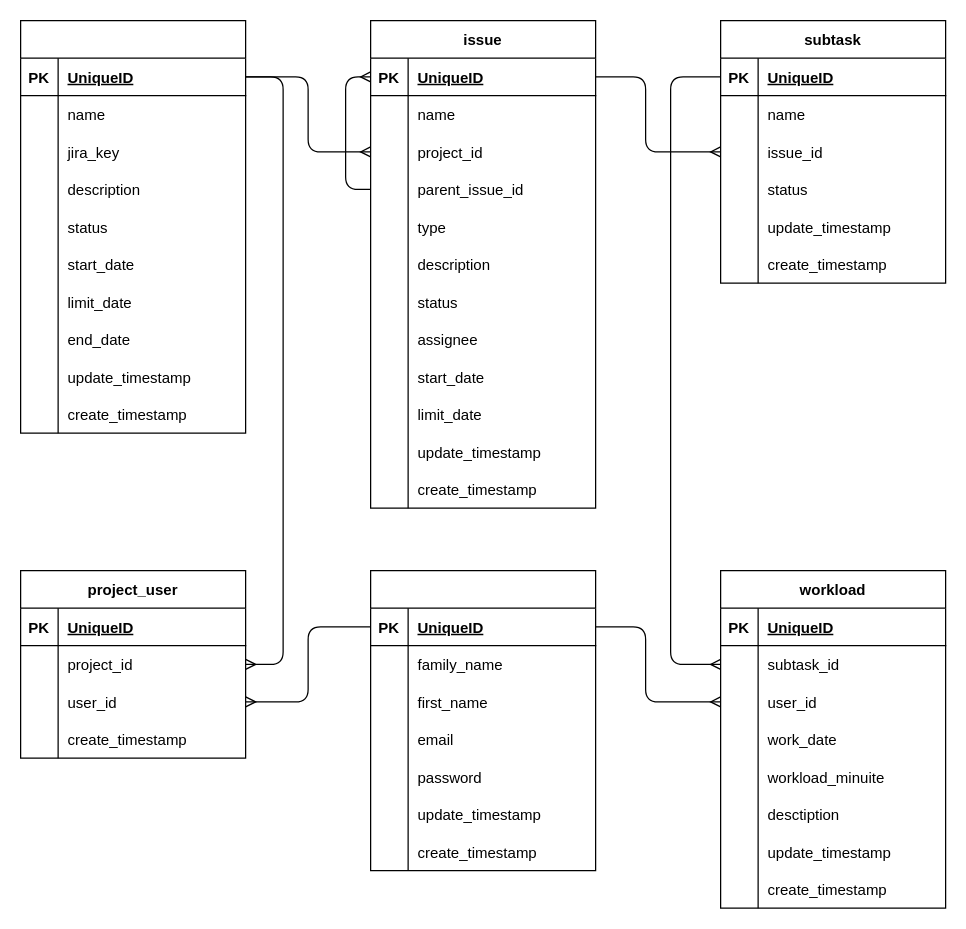
Some shapes in this 966 by 929 pixel diagram are drawn without their labels. Here are the shapes that lost their labels. From the top down, the box of each, then its label:
(19, 19, 246, 433): project
(369, 569, 596, 871): user
